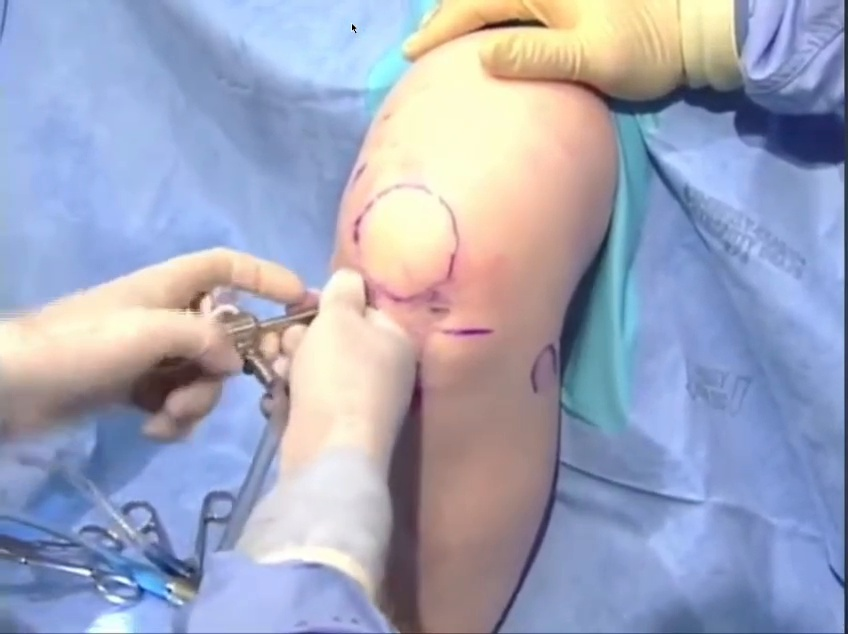arthroscope: (23, 179, 402, 508), (602, 0, 848, 135)
probe: (727, 125, 848, 596), (632, 131, 802, 314), (108, 131, 210, 233)
